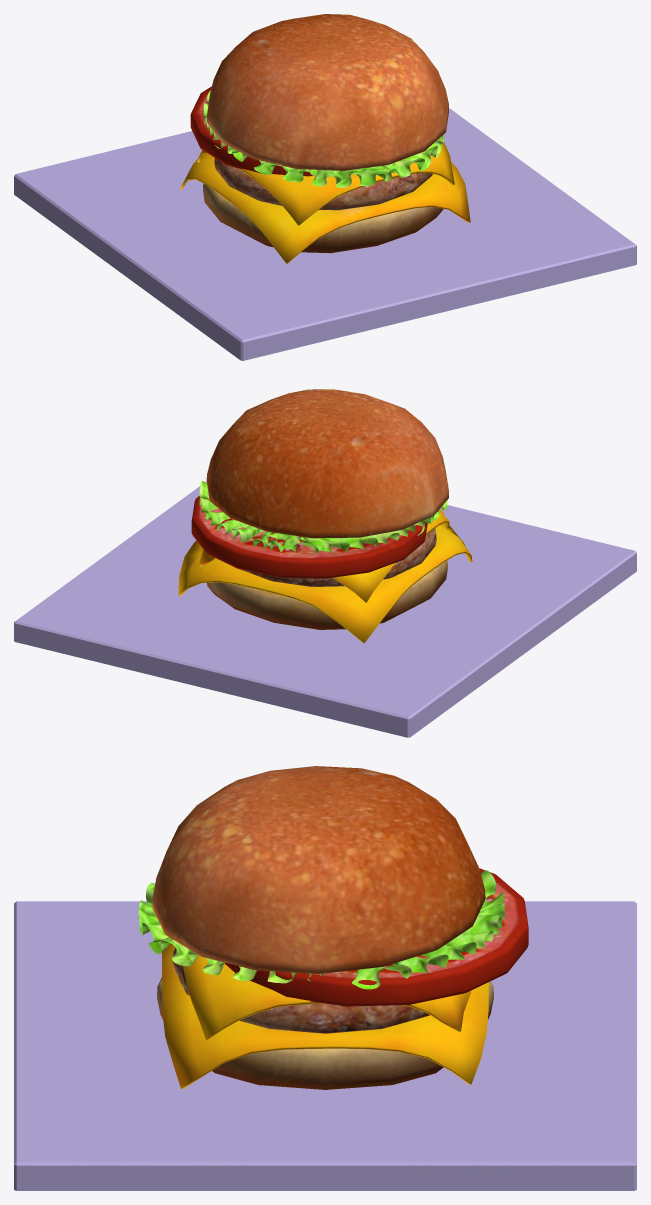
Rendered from Control_BAKE_Burguer.fbx.
3 renders of one model, top to bottom at view 1: azimuth 30°, elevation 25°; view 2: azimuth 150°, elevation 25°; view 3: azimuth 270°, elevation 25°, orthographic. The views are drawn at different scales.
Visible parts, largest first — view 1: BASE; view 2: BASE; view 3: BASE.
Part boxes in pixels (x1,y1,x2,y2): BASE: (14,14,636,360); BASE: (14,389,636,737); BASE: (14,766,636,1190).
Size of the model in its own units: 402 by 187 by 402.
